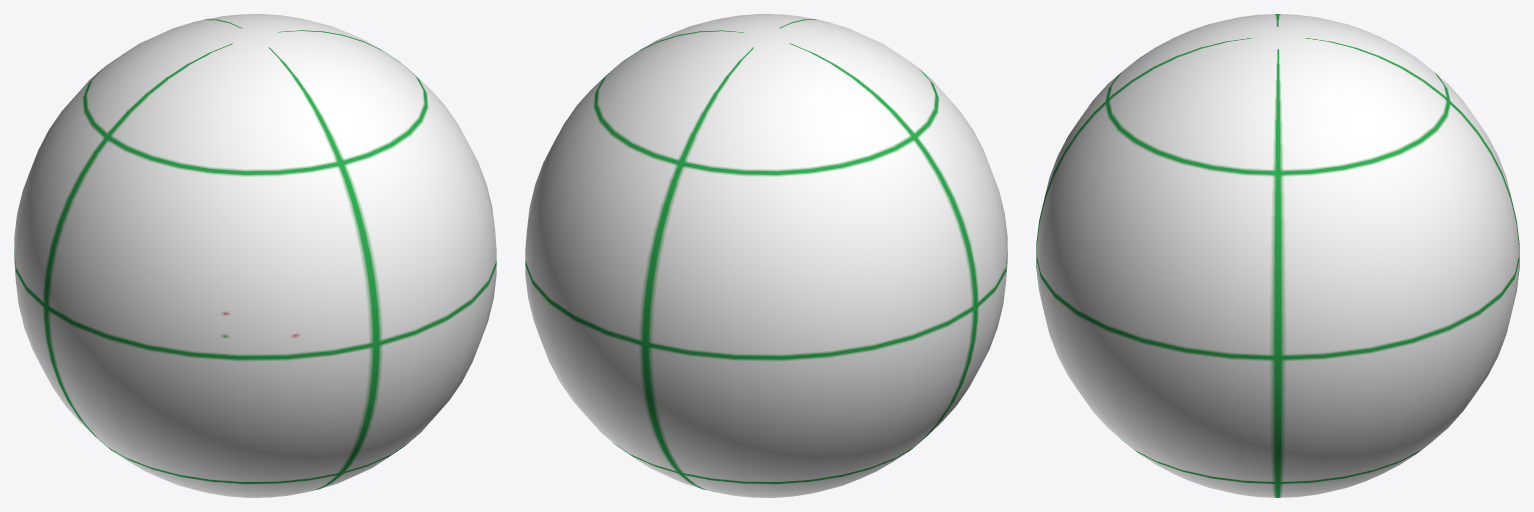
File: textured_sphere_smooth2.obj
3 renders of one model, left to right at view 1: azimuth 30°, elevation 25°; view 2: azimuth 150°, elevation 25°; view 3: azimuth 270°, elevation 25°, orthographic.
Visible parts, largest first — view 1: Sphere_Sphere.001; view 2: Sphere_Sphere.001; view 3: Sphere_Sphere.001.
Boxes of the visible parts, bbox=[...] form: Sphere_Sphere.001: bbox=[14, 14, 496, 497]; Sphere_Sphere.001: bbox=[525, 14, 1007, 497]; Sphere_Sphere.001: bbox=[1036, 14, 1519, 497].
Size of the model in its own units: 2 by 2 by 2.
Materials: 1 (1 with a texture image).
